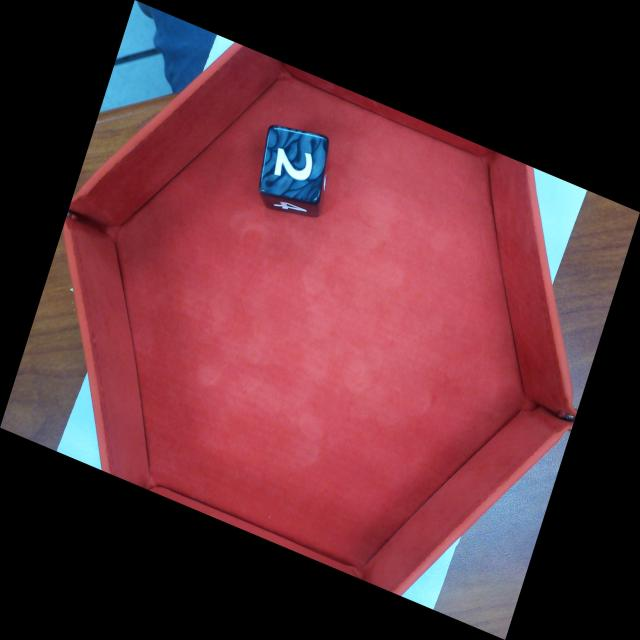dice: (260, 126, 329, 201)
